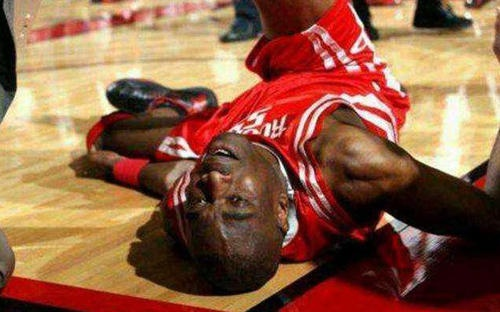falling: (59, 3, 499, 302)
